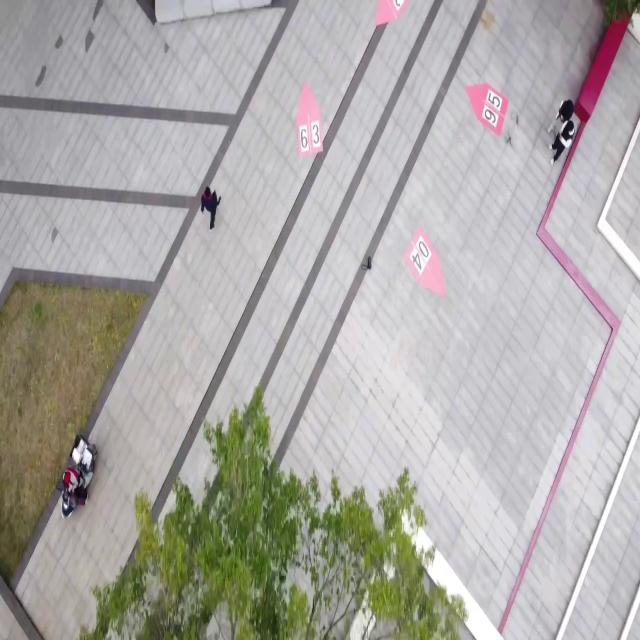-sign-: (402, 215, 454, 309), (290, 80, 334, 166), (465, 81, 509, 137)
